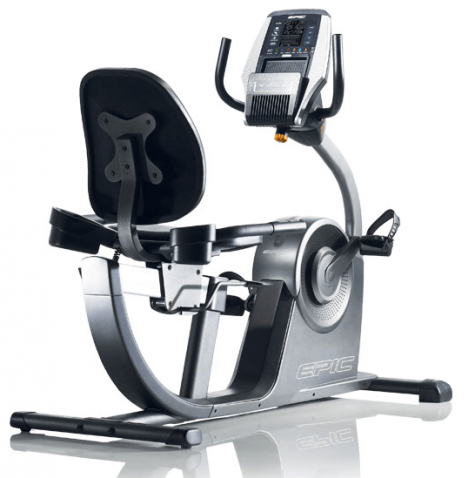gym_bike: (14, 8, 454, 451)
